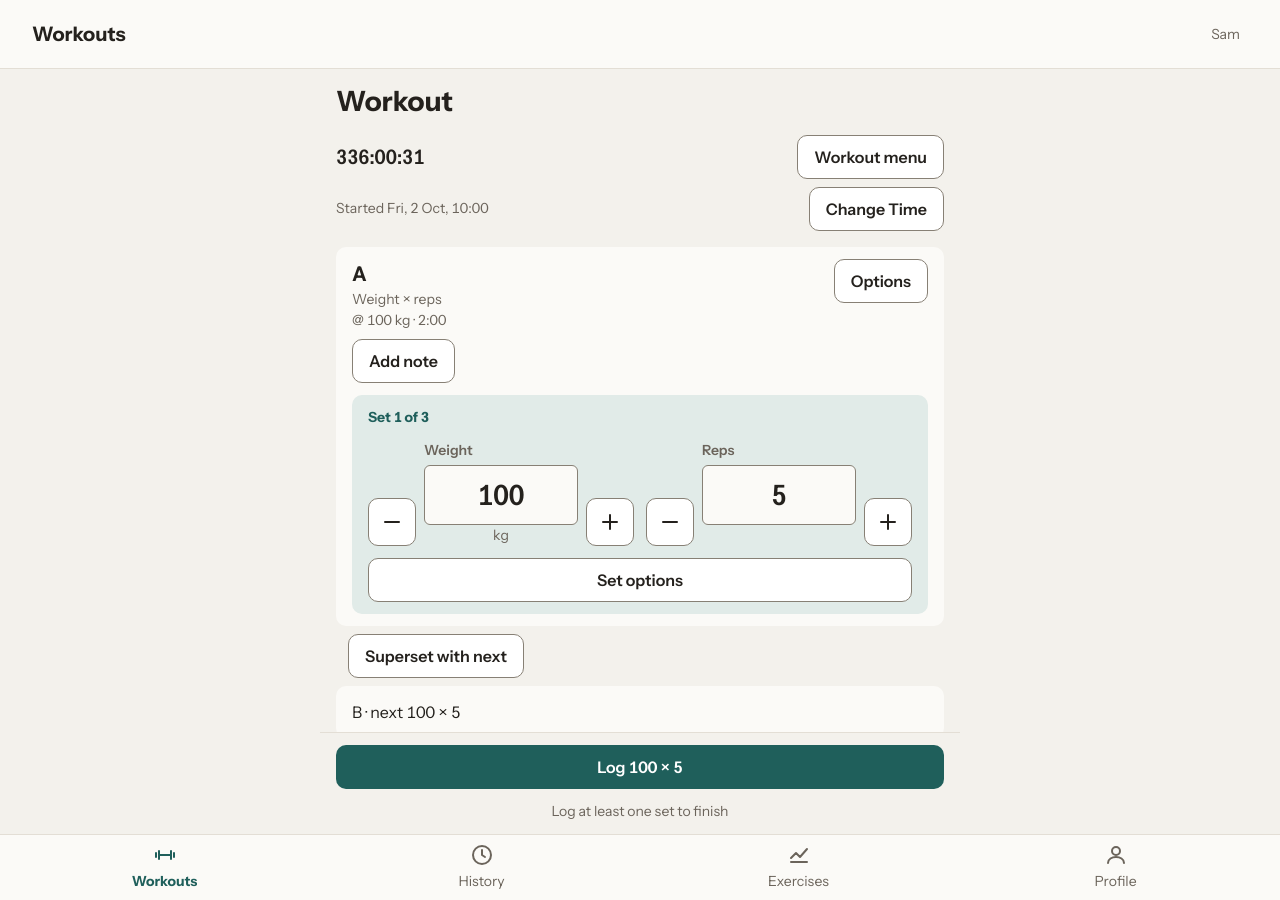
Scenario: 17.1 AC41 / AC44 / AC48 — a working set starts the exercise rest: readout in the panel, line at the top › at zero the readout says Ready, the line is gone, and 'Rest over' is announced outside aria-hidden
The image size is (1280, 900).
Expected: the heading "Workout" is shown, [336,84,453,118]
Click the button "Log 100 × 5".
click(640, 767)  # box [336,745,944,789]
Wait 121000 ms
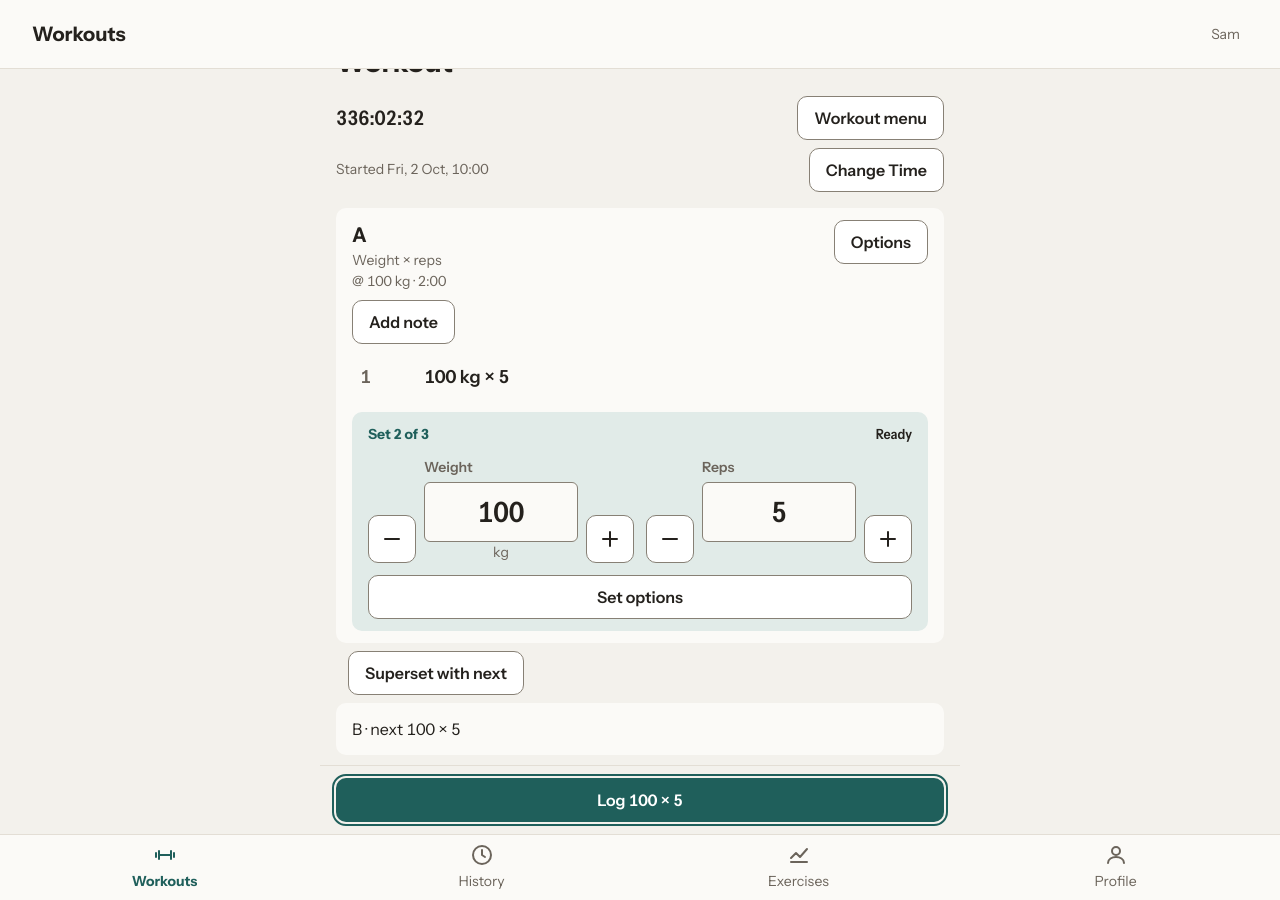
Result: the text "Ready" is shown at [876,424,912,445]
